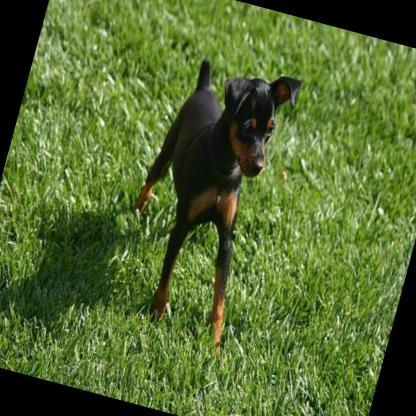miniature_pinscher: (102, 41, 300, 350)
